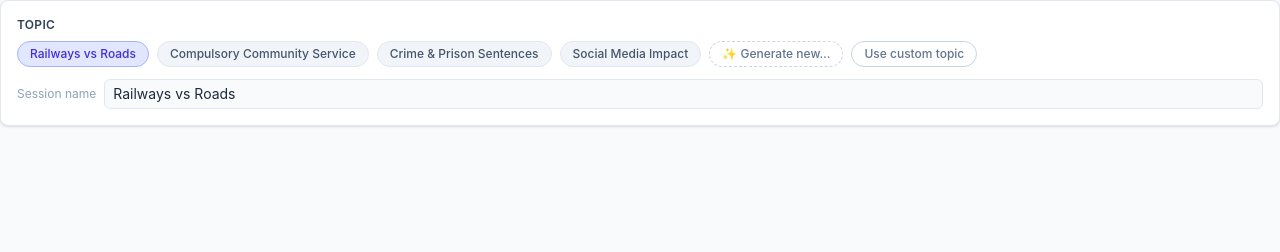
Scenario: TopicPicker › shows custom topic textarea when Use custom topic is clicked
Click the button "Use custom topic" at (914, 54), box [851,41,977,67]
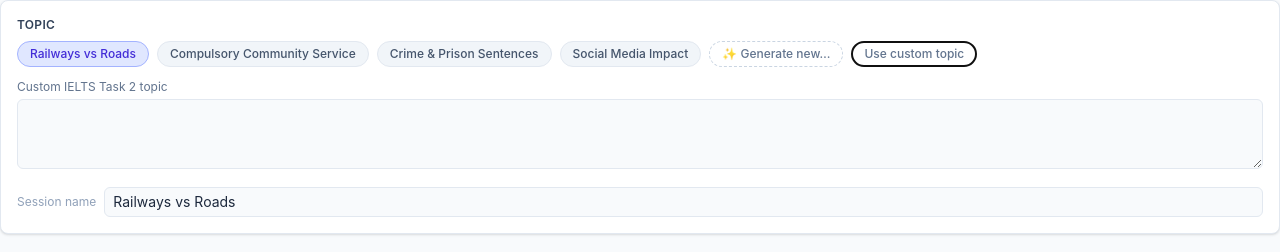
Now the text box labelled "Custom IELTS Task 2 topic" is shown, box [17,99,1263,169]
